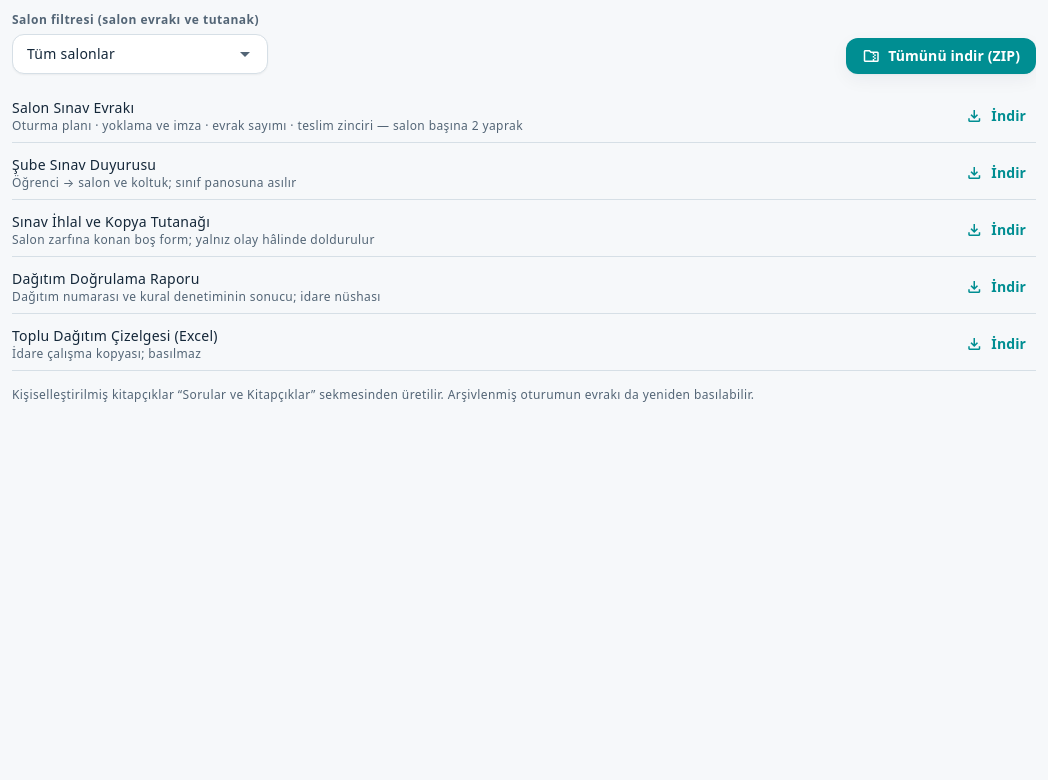
Test: EvrakPaneli › uç hatasında snackbar gösterilir, indirme yapılmaz
Click the button "Tümünü indir (ZIP)" at [941, 56], box top-left (846, 38), bottom-right (1036, 74)
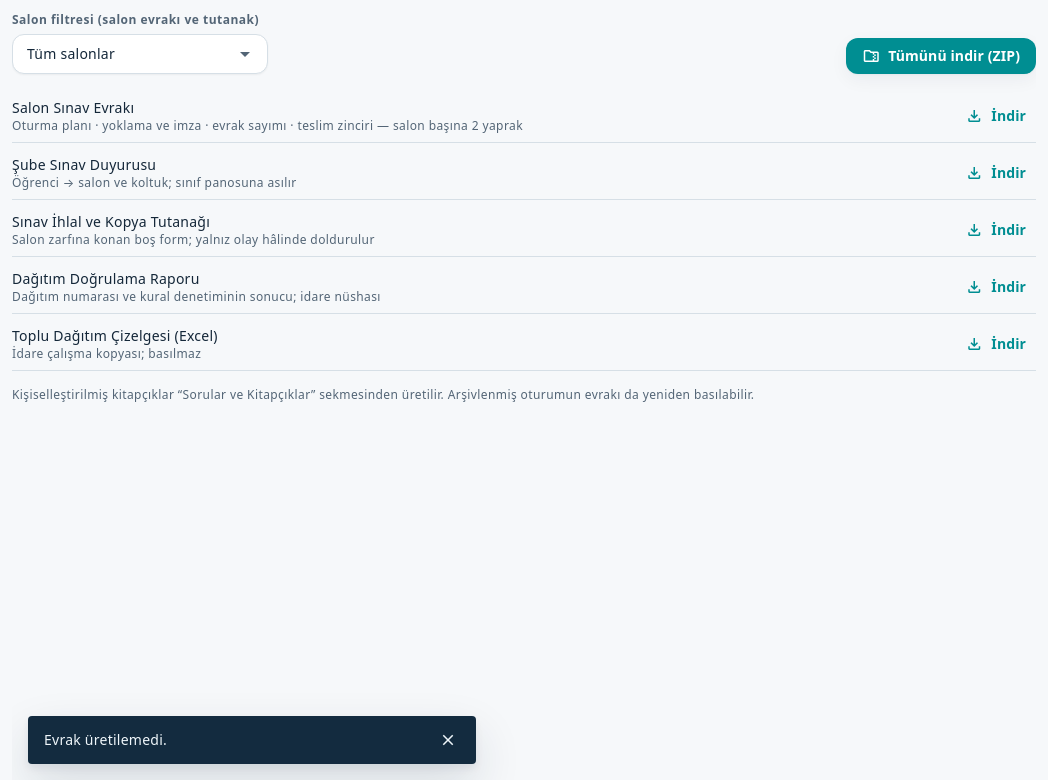
Now the text "Evrak üretilemedi." is shown, box top-left (44, 730), bottom-right (167, 749)
